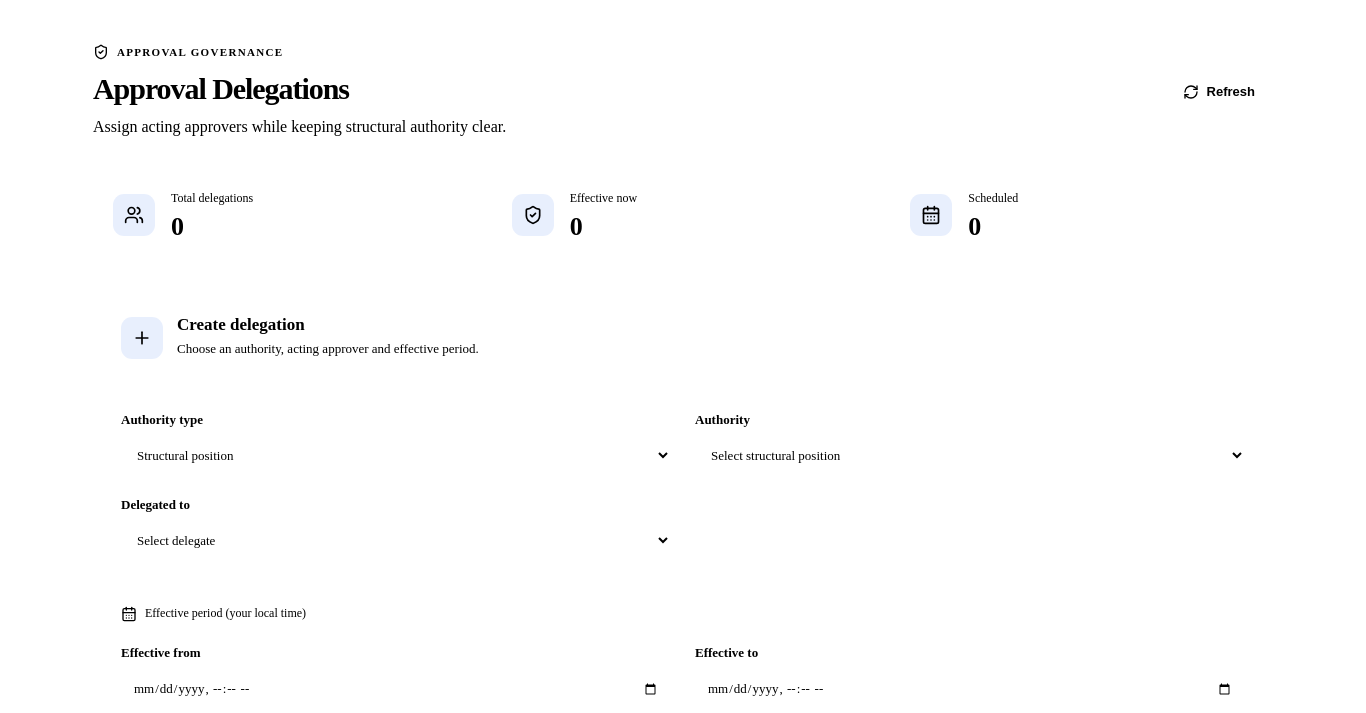
Scenario: administrator selects an unstaffed position and submits without a delegator or institute
The image size is (1366, 713).
Expected: the heading "Create delegation" is shown, [177,315,305,334]
Select "Structural position" in the dropdown labelled "Authority type" at (396, 456), box [121,436,671,475]
Select "CEO Executive Office — Chief Executive Officer / EXECUTIVE_HEAD" in the dropdown labelled "Authority" at (970, 456), box [695,436,1245,475]
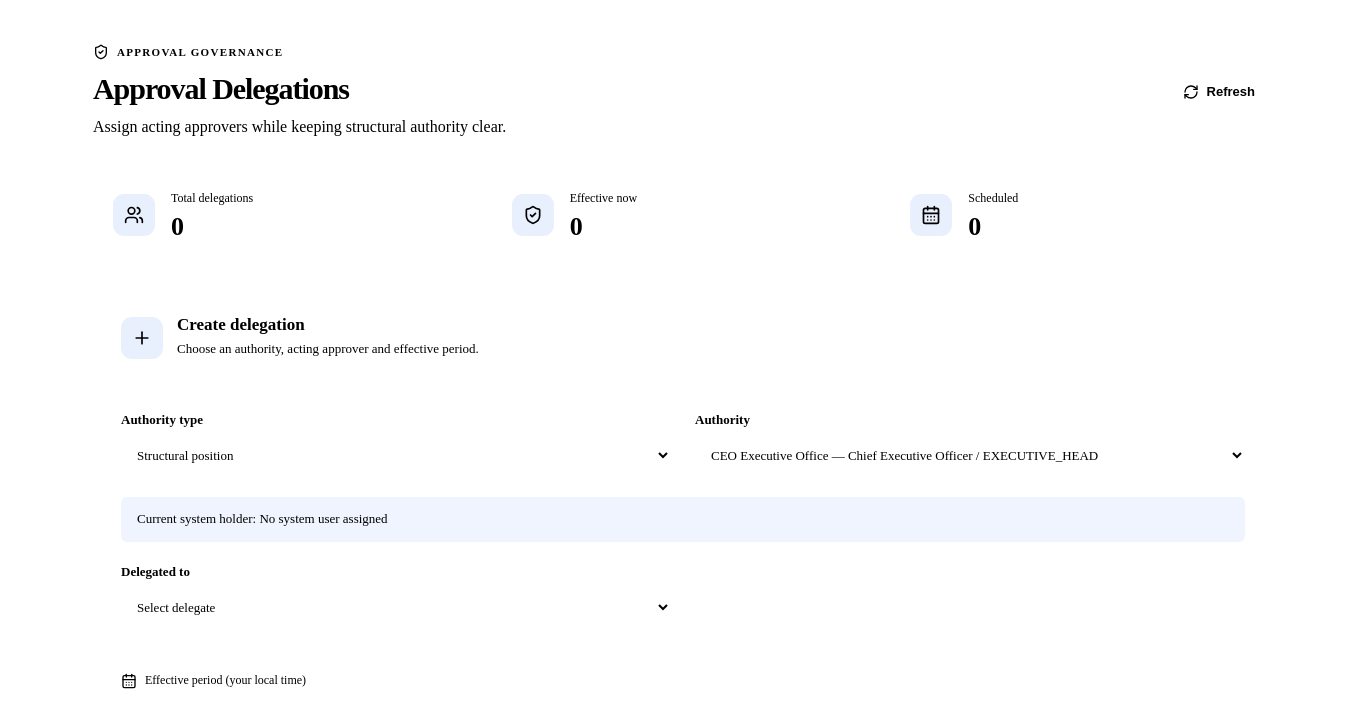
Select "COO user" in the dropdown labelled "Delegated to" at (396, 608), box [121,588,671,627]
(page scrolled)
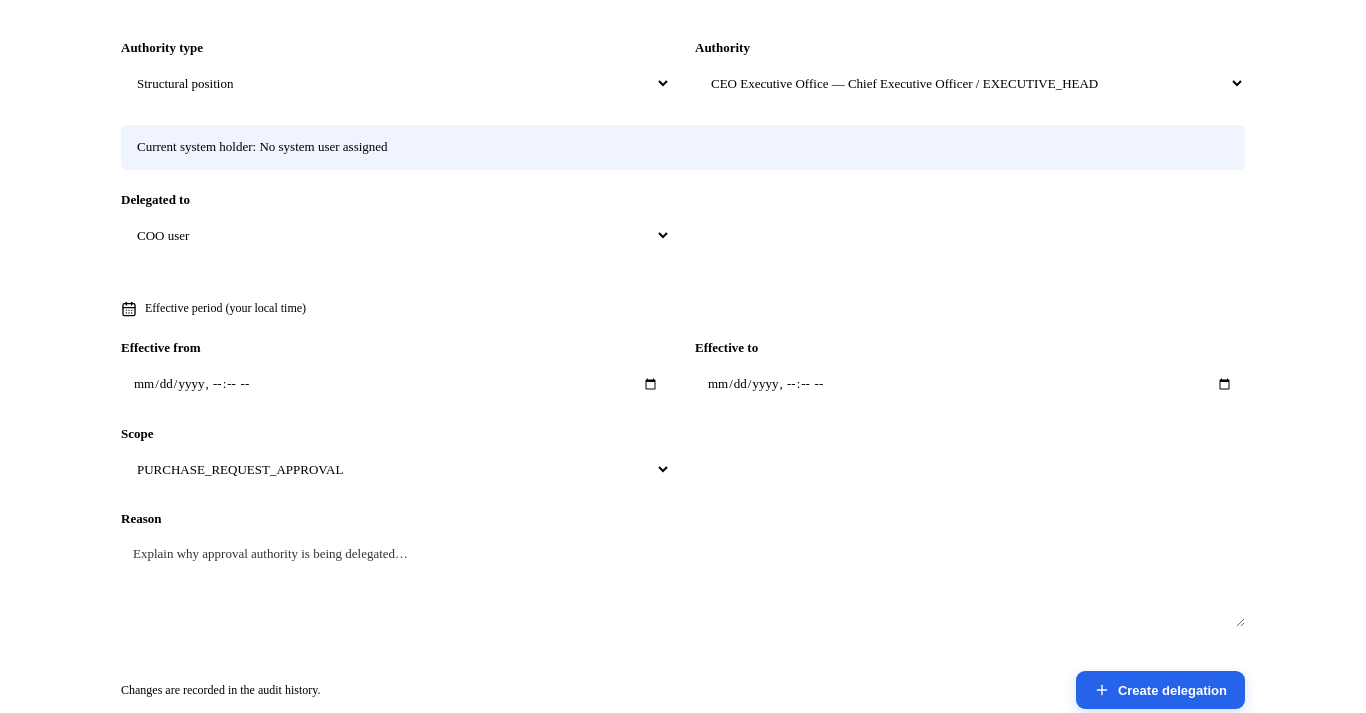
Type "2026-10-10T00:00" into the field labelled "Effective from" at (396, 384), box [121,364,671,404]
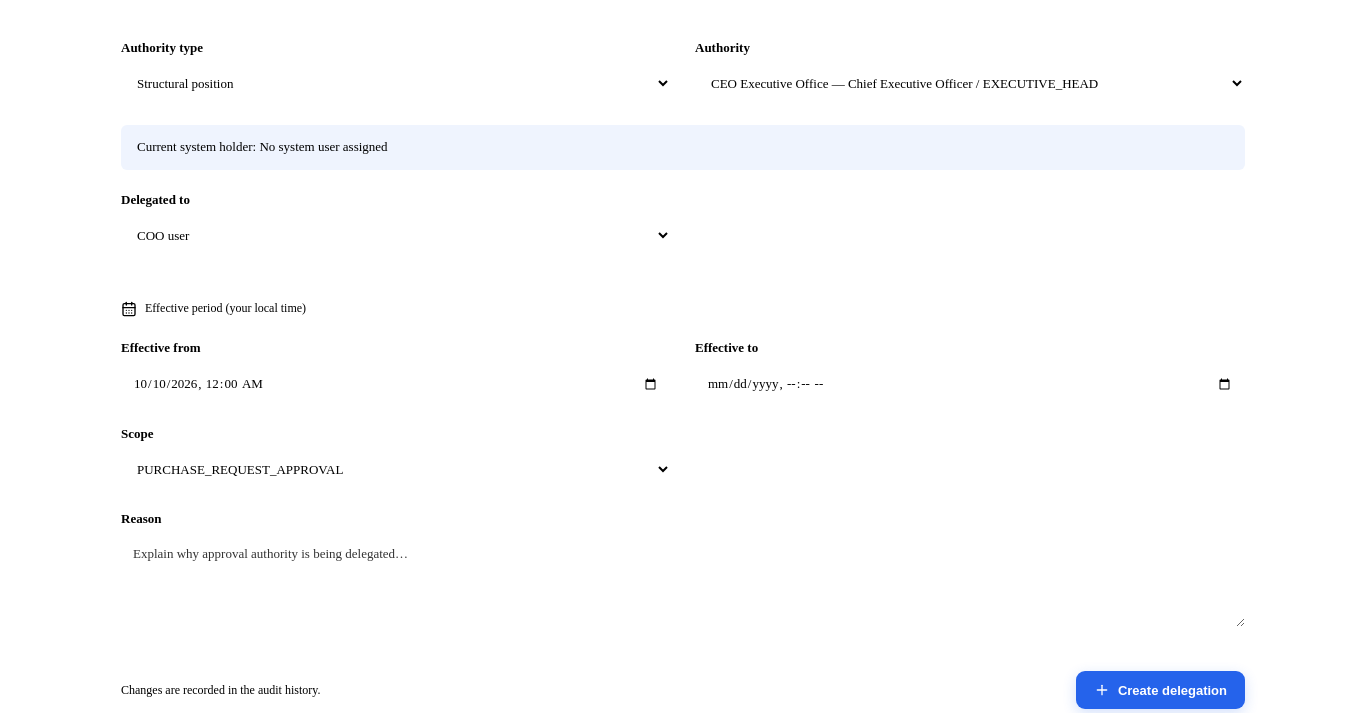
Type "2026-10-20T00:00" into the field labelled "Effective to" at (970, 384), box [695,364,1245,404]
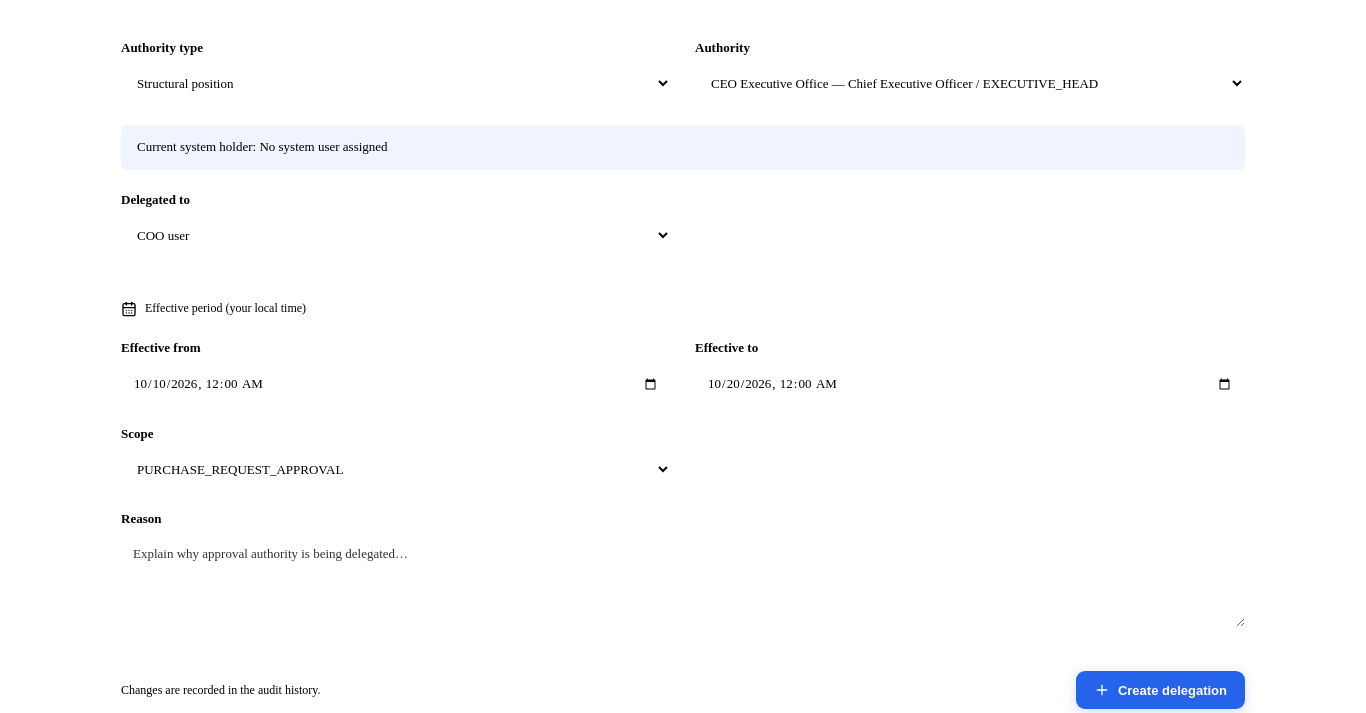
Type "Purchase authority" into the text box labelled "Reason" at (683, 581), box [121,535,1245,627]
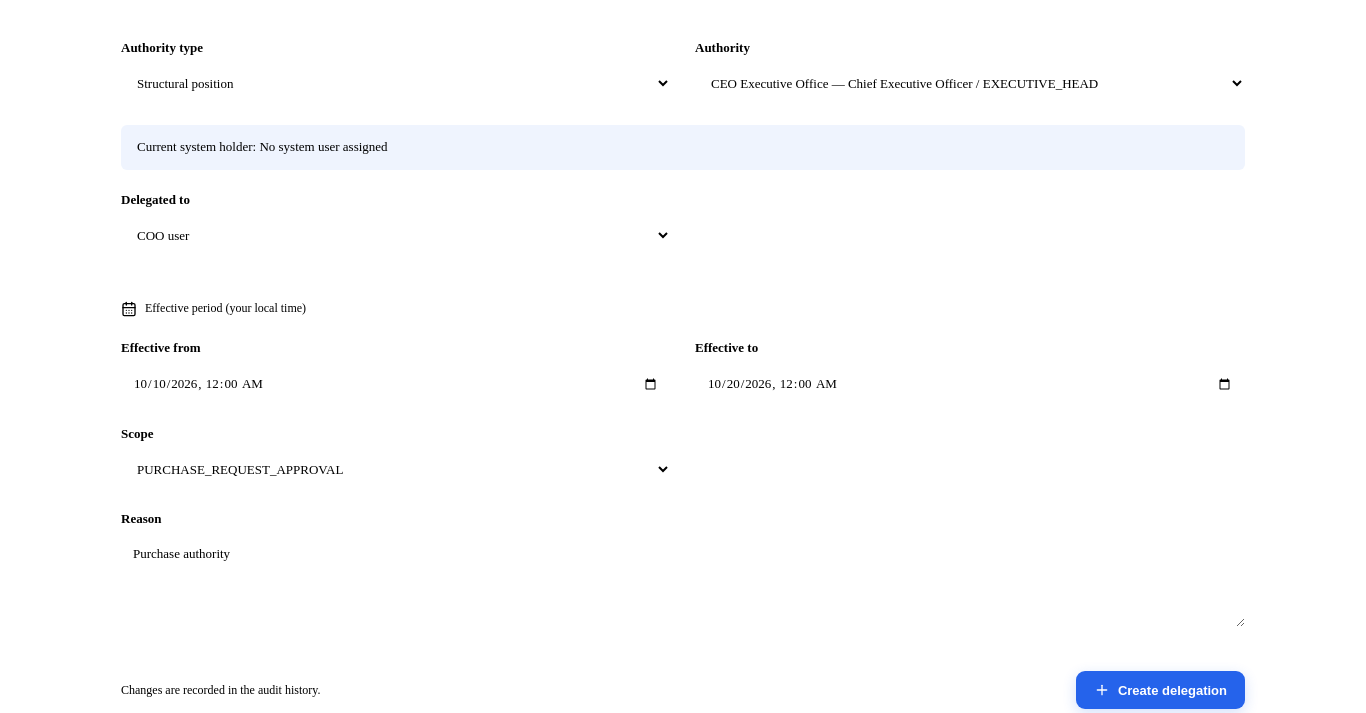
Expected: the text "Current system holder: No system user assigned" is shown, [121,125,1245,170]
Click the button "Create delegation" at (1160, 690), box [1076,671,1245,709]
(page scrolled)
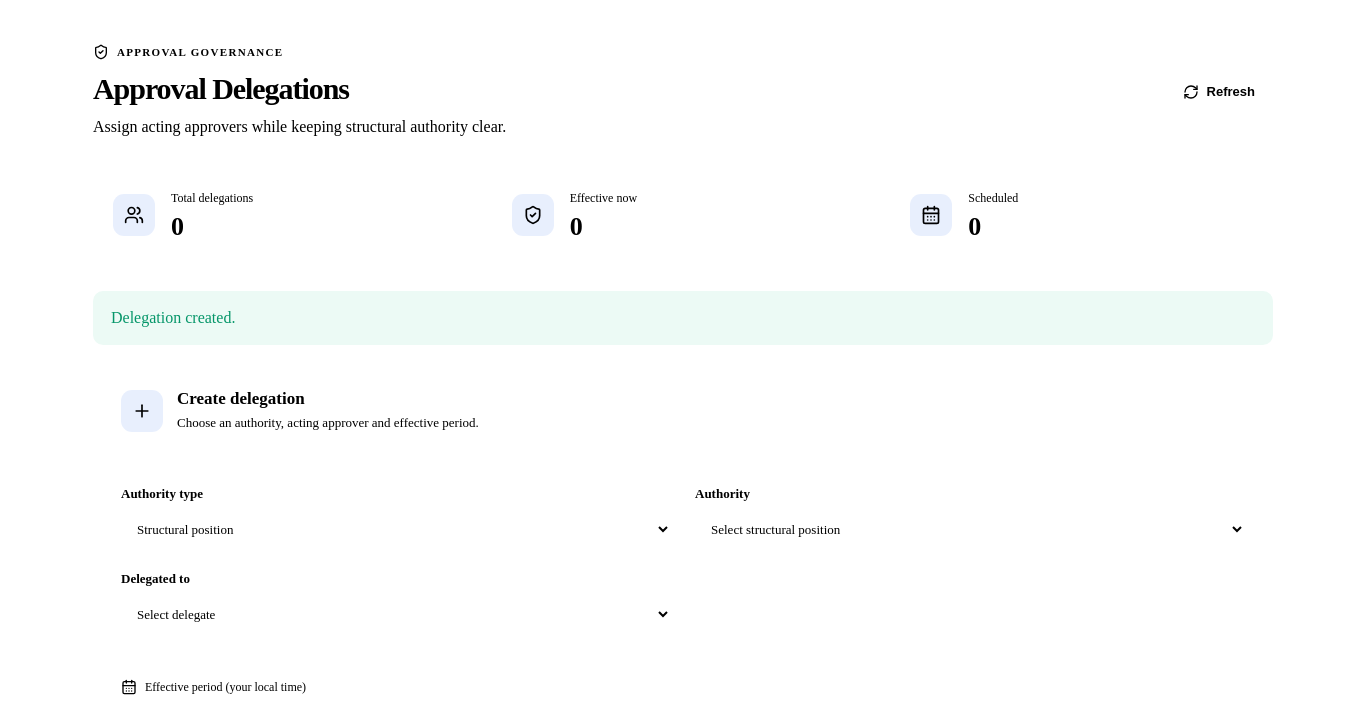
Expected: the text "Delegation created." is shown, [93,291,1273,345]
